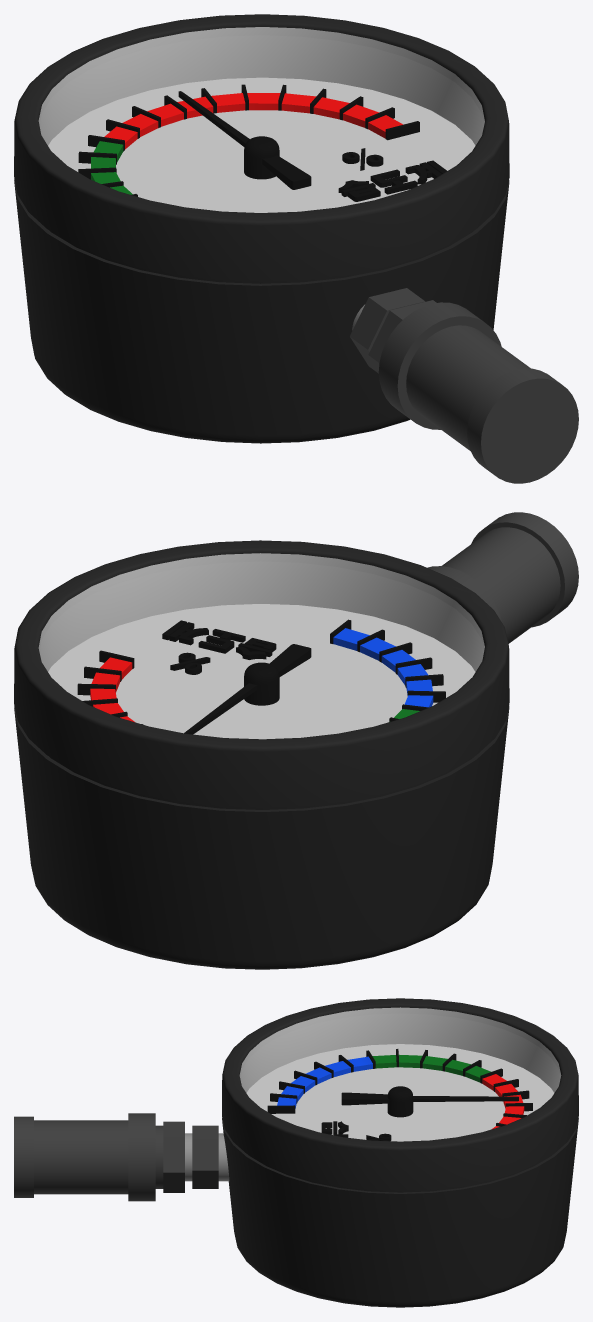
File: 습도계.FBX
3 views of the same model, one above another, from view 1: azimuth 30°, elevation 25°; view 2: azimuth 150°, elevation 25°; view 3: azimuth 270°, elevation 25° (orthographic). The views are drawn at different scales.
Visible parts, largest first — view 1: 3; view 2: 3; view 3: 3.
Boxes of the visible parts, x1,y1,x2,y2 form: 3: (14, 14, 578, 483); 3: (14, 512, 578, 969); 3: (14, 998, 578, 1307).
Bounding box in the file's own units: 95.72 × 49.63 × 151.
